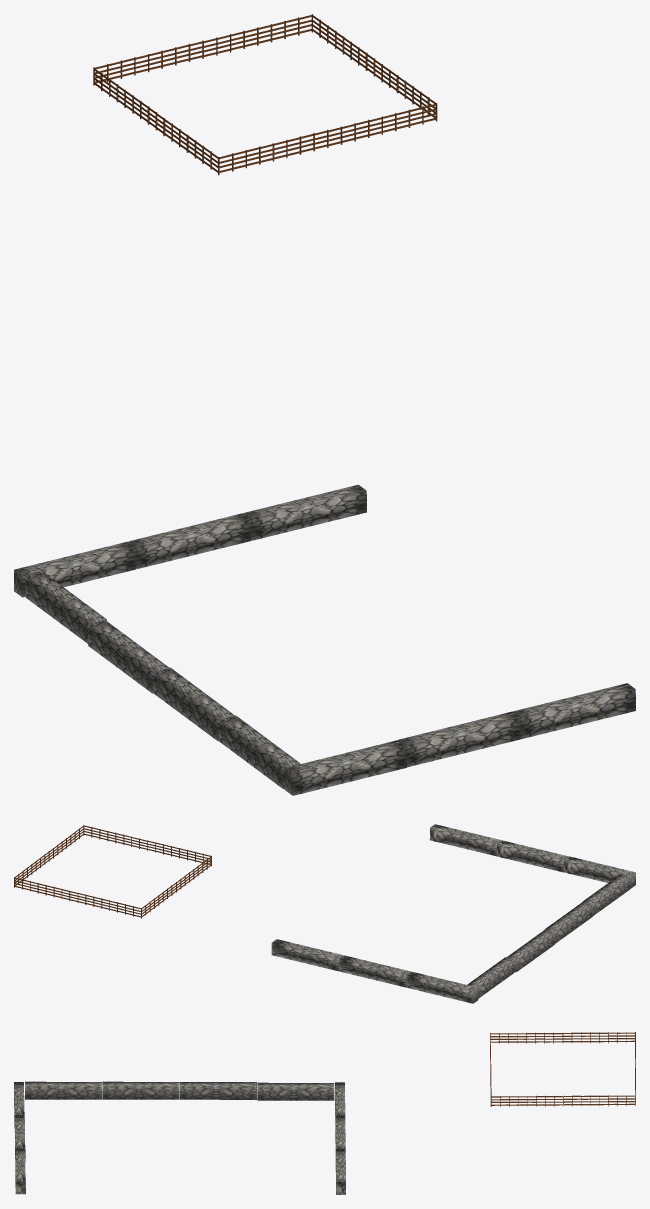
File: idk.fbx
3 renders of one model, top to bottom at view 1: azimuth 30°, elevation 25°; view 2: azimuth 150°, elevation 25°; view 3: azimuth 270°, elevation 25°, orthographic. The views are drawn at different scales.
Parts seen in each view (by area): view 1: Cube.003, Cube.514; view 2: Cube.003, Cube.514; view 3: Cube.003, Cube.514.
Boxes of the visible parts, x1=… form: Cube.003: x1=14, y1=484, x2=635, y2=795; Cube.514: x1=93, y1=14, x2=437, y2=175; Cube.003: x1=271, y1=824, x2=635, y2=1003; Cube.514: x1=14, y1=825, x2=211, y2=918; Cube.003: x1=14, y1=1081, x2=345, y2=1194; Cube.514: x1=490, y1=1032, x2=635, y2=1106.
Bounding box in the file's own units: 20978 × 9703 × 34841.
